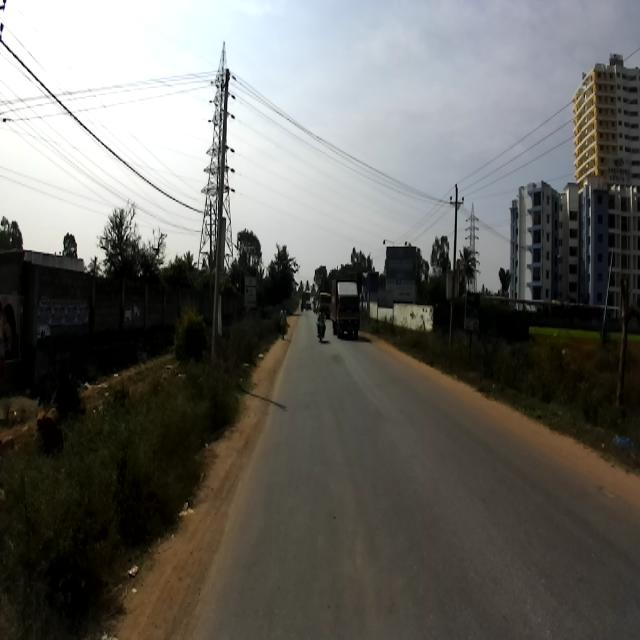electric pole ahead at: (198, 59, 242, 378)
